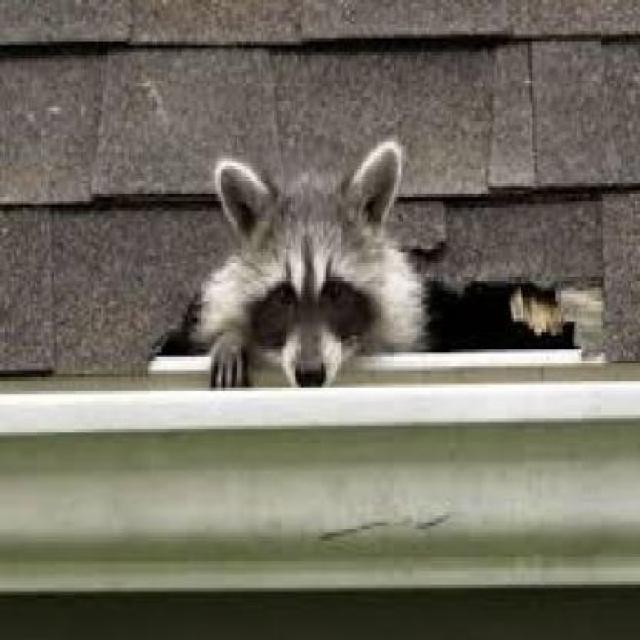raccon: (180, 137, 435, 391)
